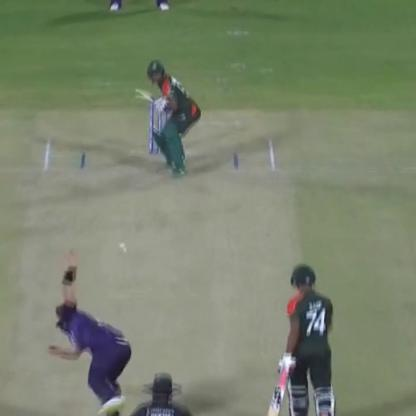ball: (114, 240, 126, 250), (120, 245, 128, 257)
bat: (266, 362, 294, 416), (127, 89, 168, 110)
pitch: (4, 115, 313, 415)
